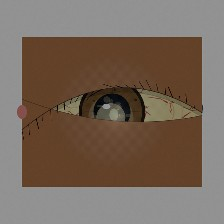corneal_ulcer: (87, 99, 134, 136)
